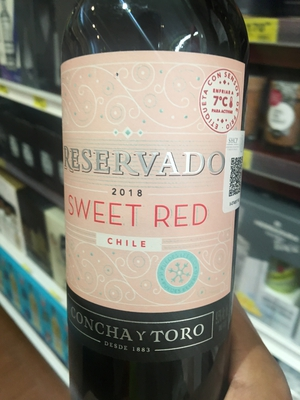reservado sweet red: (55, 17, 260, 378)
